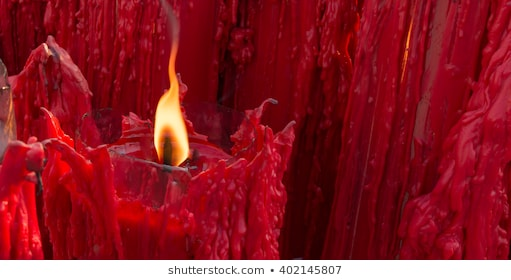Fire: (152, 30, 195, 177)
